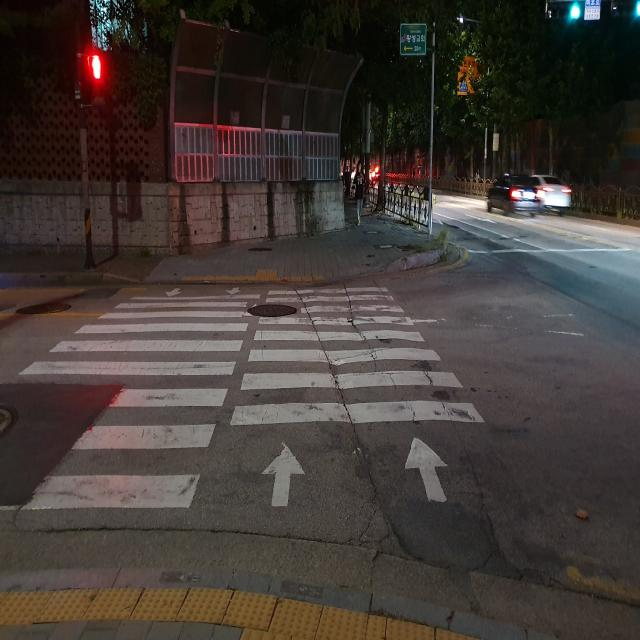빨간불: (81, 51, 108, 109)
횡단보도: (0, 284, 487, 512)
